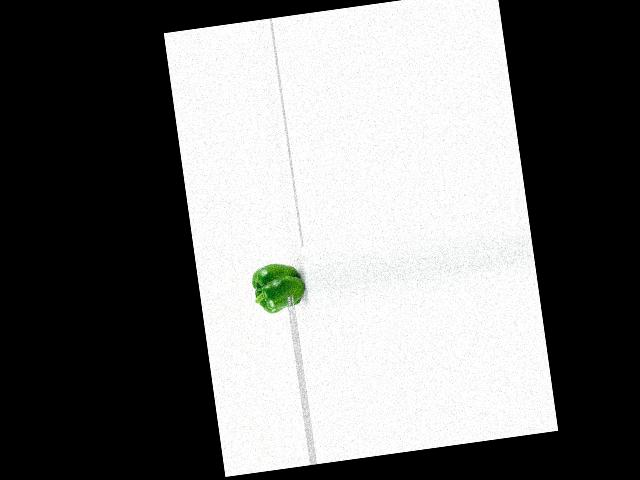bell_pepper: (247, 257, 309, 315)
